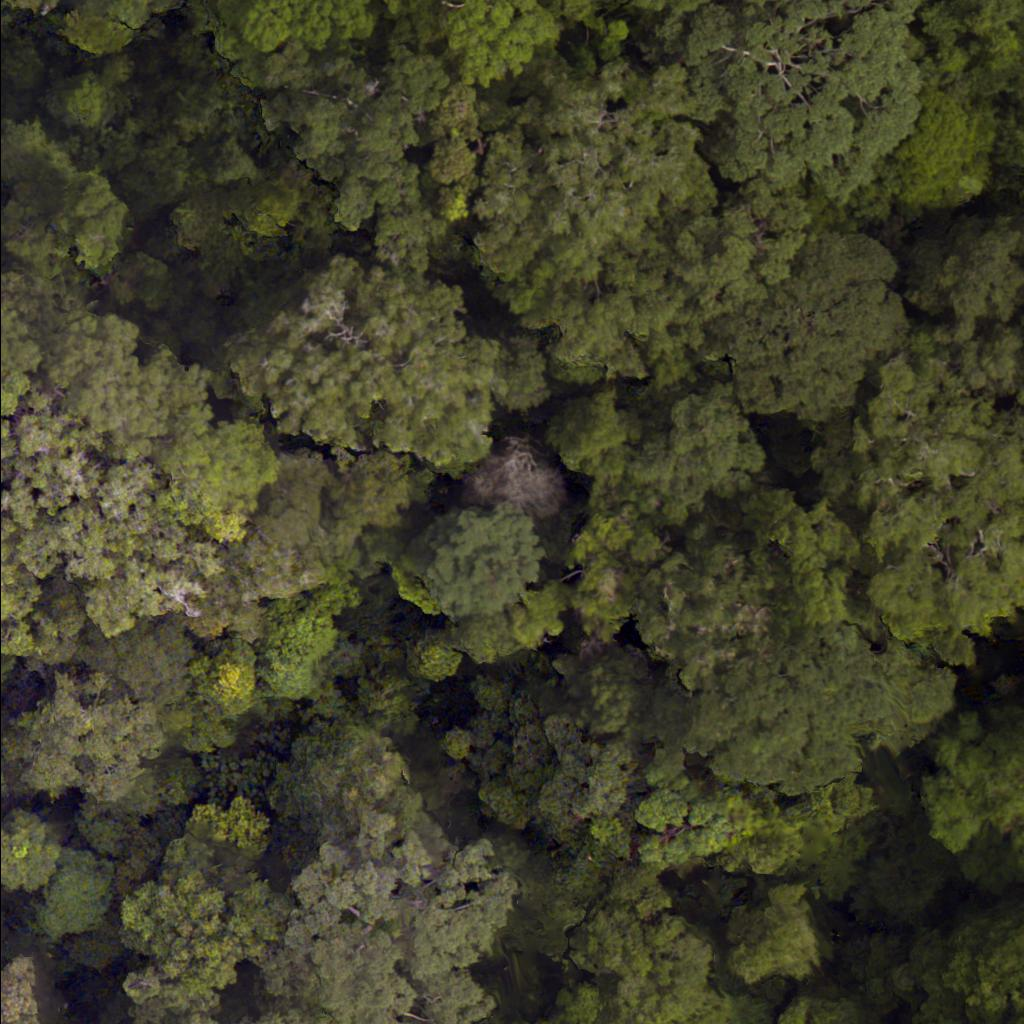crown: (0, 271, 227, 661), (821, 346, 1023, 651), (237, 258, 510, 478), (490, 643, 724, 875), (264, 808, 511, 1023), (682, 628, 964, 801), (686, 0, 917, 193), (719, 221, 918, 424), (115, 832, 297, 1013), (561, 902, 773, 1023), (0, 126, 131, 274), (415, 492, 546, 634), (151, 406, 281, 543), (19, 682, 159, 809), (266, 716, 405, 839), (627, 386, 759, 514), (920, 718, 1023, 876), (187, 528, 327, 643), (643, 551, 777, 668), (908, 216, 1023, 340), (391, 0, 563, 80), (895, 95, 1000, 207), (77, 620, 211, 707), (919, 0, 1023, 106), (719, 878, 829, 977), (934, 902, 1023, 1023), (217, 0, 390, 57), (29, 856, 117, 959), (550, 390, 638, 471), (107, 971, 244, 1023), (259, 463, 327, 556), (197, 641, 266, 720), (55, 55, 135, 122), (76, 0, 174, 52), (121, 137, 200, 201), (0, 812, 58, 893), (0, 943, 54, 1023), (195, 229, 250, 299), (162, 187, 225, 246), (455, 612, 520, 668), (0, 309, 32, 422), (233, 183, 300, 233), (400, 632, 469, 680), (0, 36, 51, 93), (775, 997, 869, 1023), (0, 0, 68, 19), (254, 1014, 301, 1023), (0, 0, 8, 31), (1020, 312, 1023, 361)
